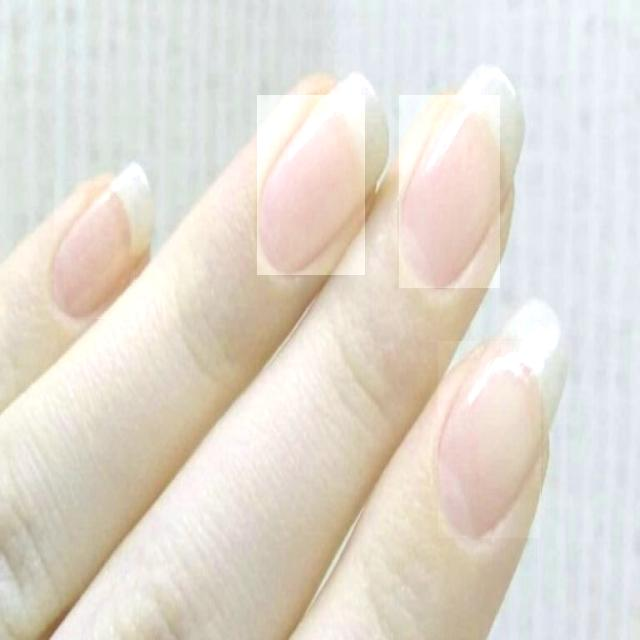sehat: (439, 341, 541, 538), (400, 96, 500, 288), (258, 96, 365, 275), (54, 181, 135, 319)
